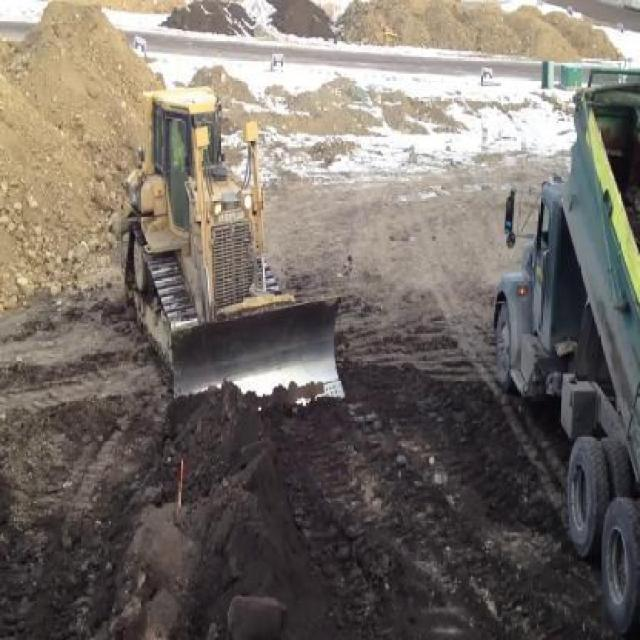buldozerpayloadergrader: (110, 84, 347, 416)
dump_truck: (492, 74, 639, 626)
